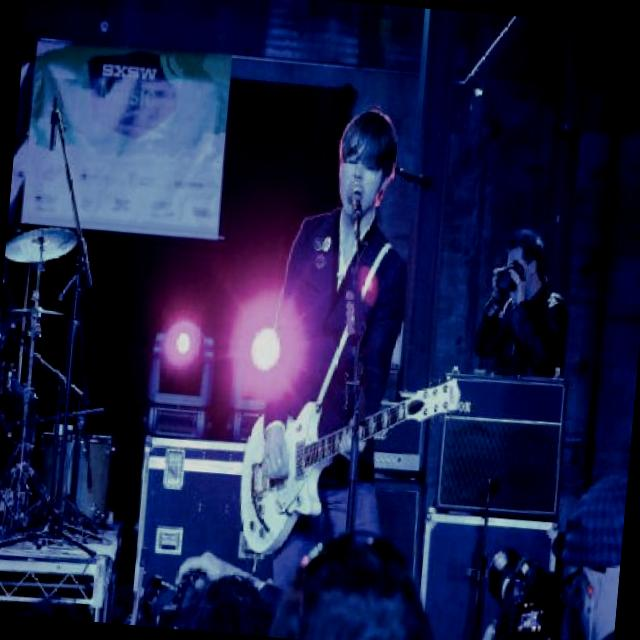Person: (253, 91, 440, 576), (270, 521, 439, 640), (470, 226, 574, 380), (541, 468, 627, 640), (170, 547, 288, 636)
